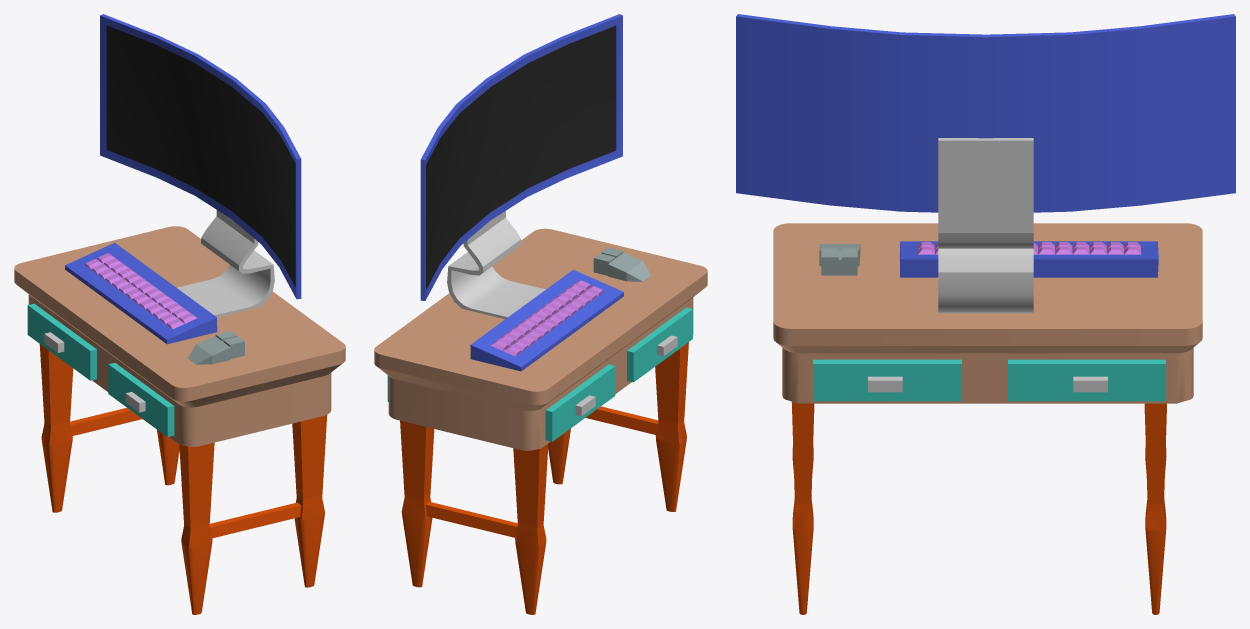
File: PCdesk_v1.fbx
The picture shows the model from 3 angles, left to right: view 1: azimuth 30°, elevation 25°; view 2: azimuth 150°, elevation 25°; view 3: azimuth 270°, elevation 25°; orthographic projection. The views are drawn at different scales.
Parts seen in each view (by area): view 1: Desk, Monitor, keyboard, mouse; view 2: Desk, Monitor, keyboard, mouse; view 3: Monitor, Desk, keyboard, mouse.
Part boxes in pixels (bbox=[...]): Desk: bbox=[14, 226, 345, 614]; Monitor: bbox=[100, 14, 301, 317]; keyboard: bbox=[65, 242, 217, 344]; mouse: bbox=[187, 331, 244, 364]; Desk: bbox=[374, 228, 707, 614]; Monitor: bbox=[420, 14, 622, 319]; keyboard: bbox=[470, 269, 623, 371]; mouse: bbox=[593, 247, 650, 281]; Monitor: bbox=[736, 14, 1235, 313]; Desk: bbox=[773, 223, 1202, 614]; keyboard: bbox=[900, 241, 1158, 277]; mouse: bbox=[819, 244, 860, 275].
Size of the model in its own units: 76.81 by 190 by 149.
